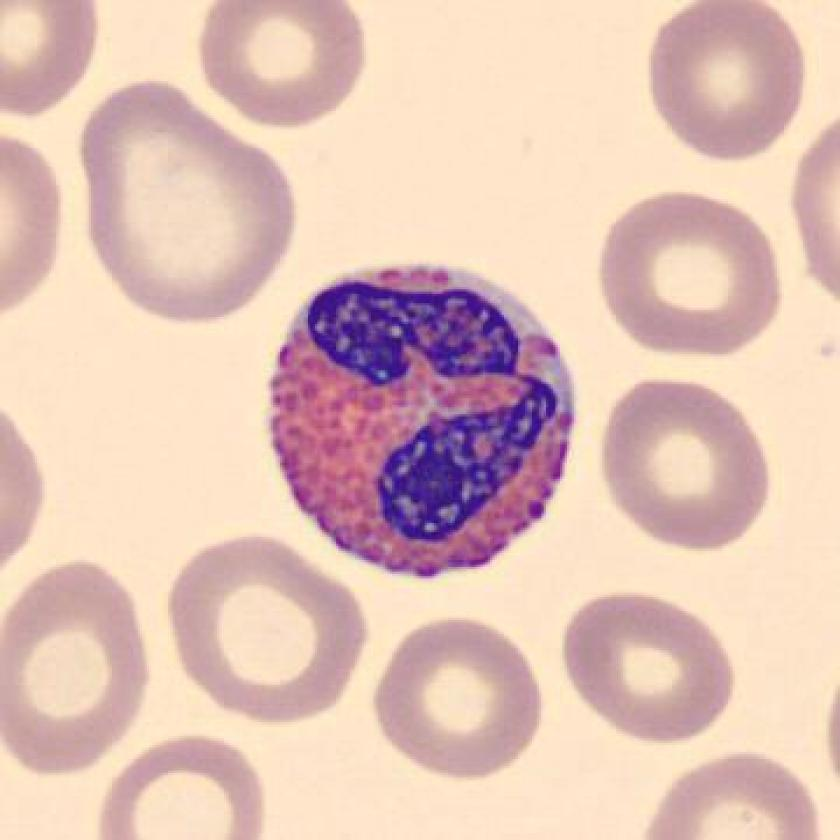eosinophil: (251, 244, 591, 584)
